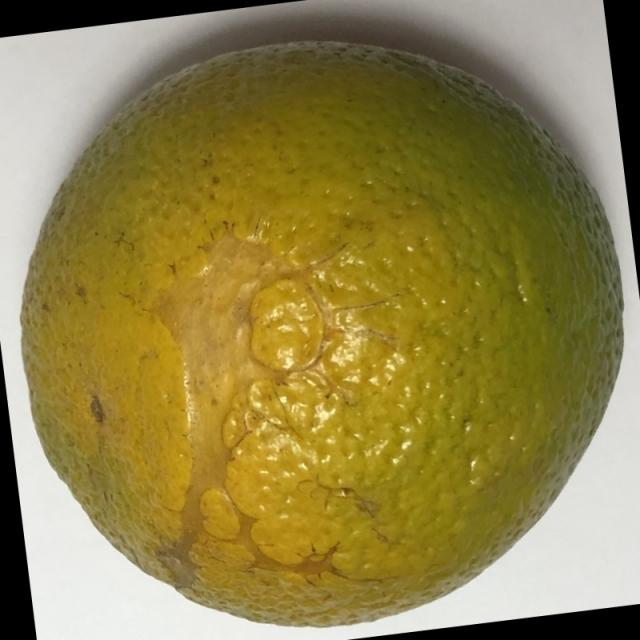canker: (14, 30, 634, 636)
